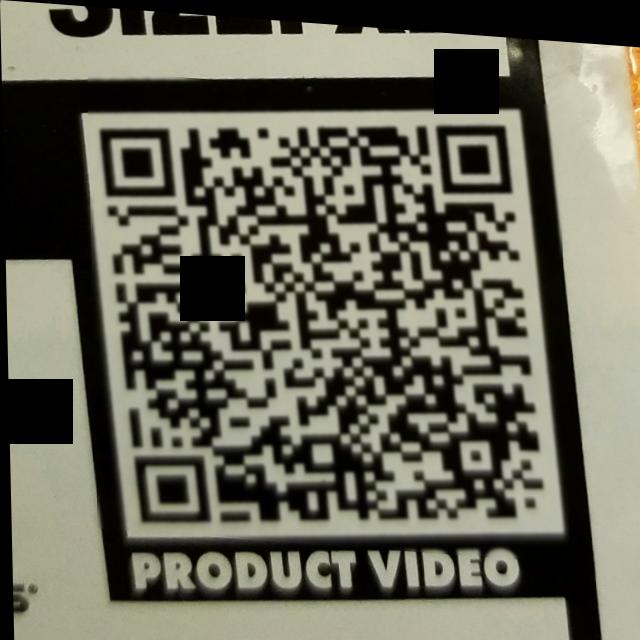QR_CODE: (87, 69, 567, 554)
